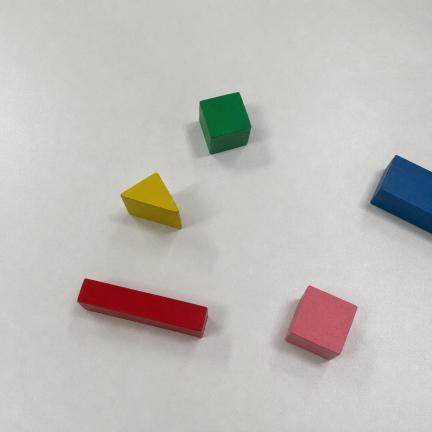BuildingBlocks: (78, 279, 207, 337), (286, 287, 356, 359), (371, 156, 431, 232), (122, 173, 181, 229), (199, 92, 251, 154)
